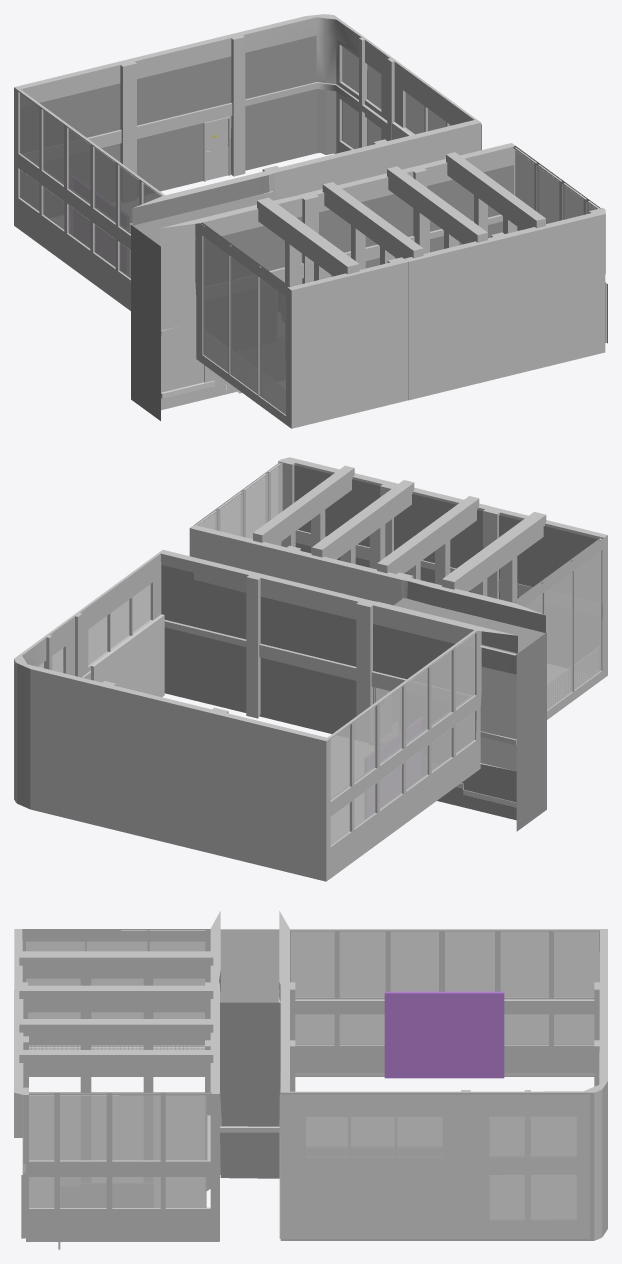
The model's file is scene_walls_v08.fbx.
3 views of the same model, one above another, from view 1: azimuth 30°, elevation 25°; view 2: azimuth 150°, elevation 25°; view 3: azimuth 270°, elevation 25° (orthographic). The views are drawn at different scales.
Visible parts, largest first — view 1: pCube388, pCube392, pCube391, pCube390, pCube393; view 2: pCube388, pCube391, pCube392, pCube393, pCube390; view 3: pCube388, pCube390, pCube391, pCube393, pCube392.
Boxes of the visible parts, left/top/right/bottom form: pCube388: left=14, top=14, right=607, bottom=428; pCube392: left=203, top=228, right=285, bottom=414; pCube391: left=20, top=93, right=161, bottom=278; pCube390: left=342, top=47, right=481, bottom=149; pCube393: left=515, top=150, right=596, bottom=230; pCube388: left=14, top=457, right=607, bottom=881; pCube391: left=330, top=634, right=474, bottom=845; pCube392: left=518, top=551, right=601, bottom=709; pCube393: left=198, top=464, right=282, bottom=545; pCube390: left=38, top=584, right=150, bottom=672; pCube388: left=14, top=911, right=607, bottom=1249; pCube390: left=279, top=1094, right=589, bottom=1238; pCube391: left=291, top=931, right=598, bottom=1075; pCube393: left=22, top=1095, right=206, bottom=1238; pCube392: left=26, top=941, right=205, bottom=1049.
Size of the model in its own units: 2373 by 1305 by 3217.
